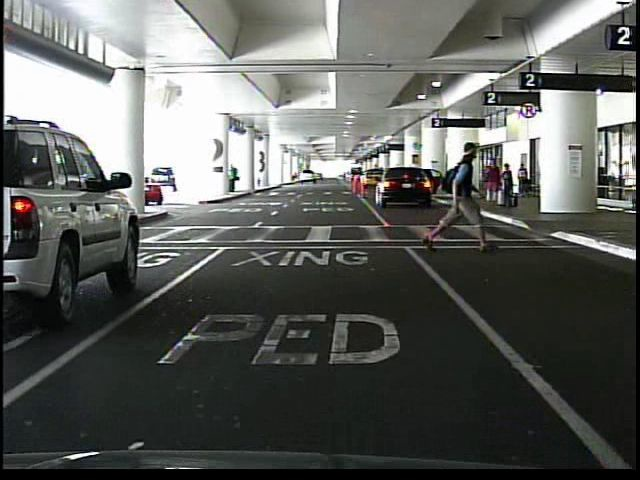person: (429, 141, 505, 253), (479, 158, 502, 205), (502, 162, 518, 208), (517, 162, 528, 196), (228, 164, 238, 194)
